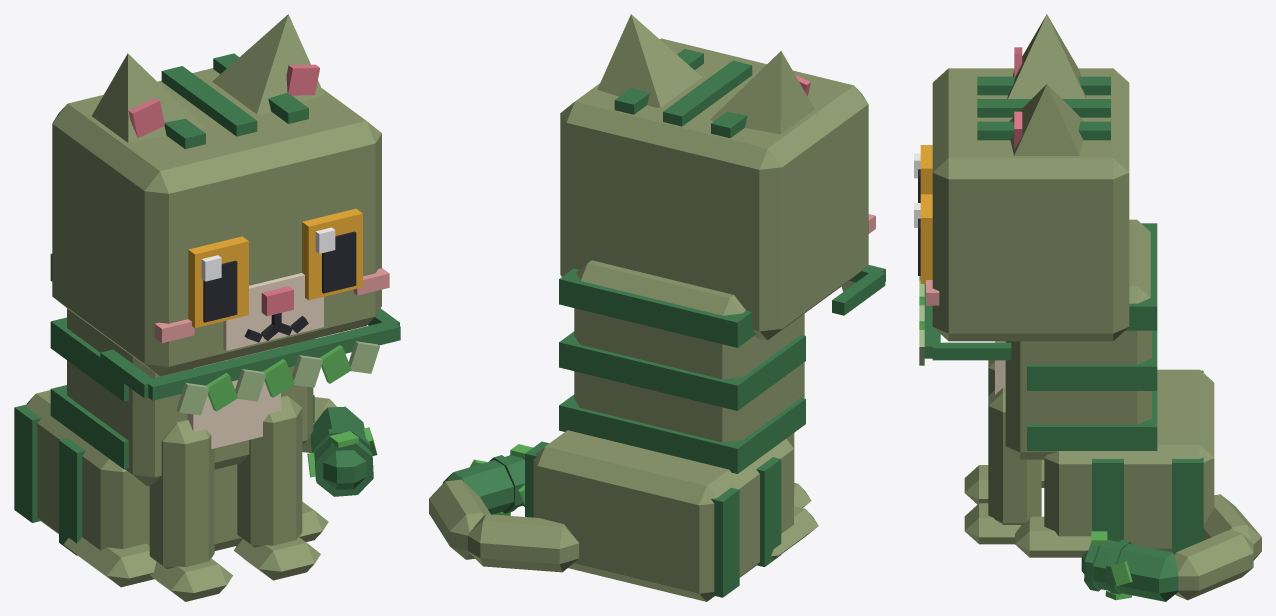
File: CatCafe_Cat_Ivy_Sit.glb
3 views of the same model, side by side, from view 1: azimuth 30°, elevation 25°; view 2: azimuth 150°, elevation 25°; view 3: azimuth 270°, elevation 25° (orthographic). The views are drawn at different scales.
Parts seen in each view (by area): view 1: CatCafe_Cat_Ivy_Sit_Head, CatCafe_Cat_Ivy_Sit_Body, CatCafe_Cat_Ivy_Sit_Prop, CatCafe_Cat_Ivy_Sit_LegF2, CatCafe_Cat_Ivy_Sit_LegF1, CatCafe_Cat_Ivy_Sit_EarL, CatCafe_Cat_Ivy_Sit_Eye2, CatCafe_Cat_Ivy_Sit_Eye1, CatCafe_Cat_Ivy_Sit_EarR, CatCafe_Cat_Ivy_Sit_Tail, CatCafe_Cat_Ivy_Sit_Tail_Vine; view 2: CatCafe_Cat_Ivy_Sit_Body, CatCafe_Cat_Ivy_Sit_Head, CatCafe_Cat_Ivy_Sit_Tail, CatCafe_Cat_Ivy_Sit_EarL, CatCafe_Cat_Ivy_Sit_EarR, CatCafe_Cat_Ivy_Sit_Prop, CatCafe_Cat_Ivy_Sit_Tail_Vine; view 3: CatCafe_Cat_Ivy_Sit_Head, CatCafe_Cat_Ivy_Sit_Body, CatCafe_Cat_Ivy_Sit_Tail, CatCafe_Cat_Ivy_Sit_LegF1, CatCafe_Cat_Ivy_Sit_EarL, CatCafe_Cat_Ivy_Sit_EarR, CatCafe_Cat_Ivy_Sit_Prop, CatCafe_Cat_Ivy_Sit_Tail_Vine, CatCafe_Cat_Ivy_Sit_Eye1, CatCafe_Cat_Ivy_Sit_LegF2, CatCafe_Cat_Ivy_Sit_Eye2.
Part boxes in pixels (bbox=[...]): CatCafe_Cat_Ivy_Sit_Head: bbox=[52, 53, 389, 376]; CatCafe_Cat_Ivy_Sit_Body: bbox=[14, 253, 328, 587]; CatCafe_Cat_Ivy_Sit_Prop: bbox=[100, 308, 400, 415]; CatCafe_Cat_Ivy_Sit_LegF2: bbox=[149, 419, 232, 601]; CatCafe_Cat_Ivy_Sit_LegF1: bbox=[234, 395, 320, 580]; CatCafe_Cat_Ivy_Sit_EarL: bbox=[212, 14, 324, 114]; CatCafe_Cat_Ivy_Sit_Eye2: bbox=[188, 236, 248, 327]; CatCafe_Cat_Ivy_Sit_Eye1: bbox=[302, 208, 362, 300]; CatCafe_Cat_Ivy_Sit_EarR: bbox=[92, 53, 203, 142]; CatCafe_Cat_Ivy_Sit_Tail: bbox=[302, 397, 368, 489]; CatCafe_Cat_Ivy_Sit_Tail_Vine: bbox=[307, 427, 377, 496]; CatCafe_Cat_Ivy_Sit_Body: bbox=[525, 260, 818, 601]; CatCafe_Cat_Ivy_Sit_Head: bbox=[560, 38, 875, 340]; CatCafe_Cat_Ivy_Sit_Tail: bbox=[429, 455, 579, 572]; CatCafe_Cat_Ivy_Sit_EarL: bbox=[597, 14, 701, 107]; CatCafe_Cat_Ivy_Sit_EarR: bbox=[710, 51, 814, 134]; CatCafe_Cat_Ivy_Sit_Prop: bbox=[832, 265, 885, 315]; CatCafe_Cat_Ivy_Sit_Tail_Vine: bbox=[470, 444, 532, 515]; CatCafe_Cat_Ivy_Sit_Head: bbox=[926, 68, 1129, 341]; CatCafe_Cat_Ivy_Sit_Body: bbox=[995, 219, 1214, 557]; CatCafe_Cat_Ivy_Sit_Tail: bbox=[1081, 494, 1261, 601]; CatCafe_Cat_Ivy_Sit_LegF1: bbox=[964, 387, 1041, 544]; CatCafe_Cat_Ivy_Sit_EarL: bbox=[1009, 84, 1084, 155]; CatCafe_Cat_Ivy_Sit_EarR: bbox=[1007, 14, 1086, 98]; CatCafe_Cat_Ivy_Sit_Prop: bbox=[919, 276, 1011, 365]; CatCafe_Cat_Ivy_Sit_Tail_Vine: bbox=[1084, 531, 1132, 600]; CatCafe_Cat_Ivy_Sit_Eye1: bbox=[914, 194, 932, 283]; CatCafe_Cat_Ivy_Sit_LegF2: bbox=[964, 360, 994, 504]; CatCafe_Cat_Ivy_Sit_Eye2: bbox=[914, 145, 932, 202].
Bounding box in the file's own units: 1.27 × 1.86 × 1.24.
Materials: 1 (1 with a texture image).
